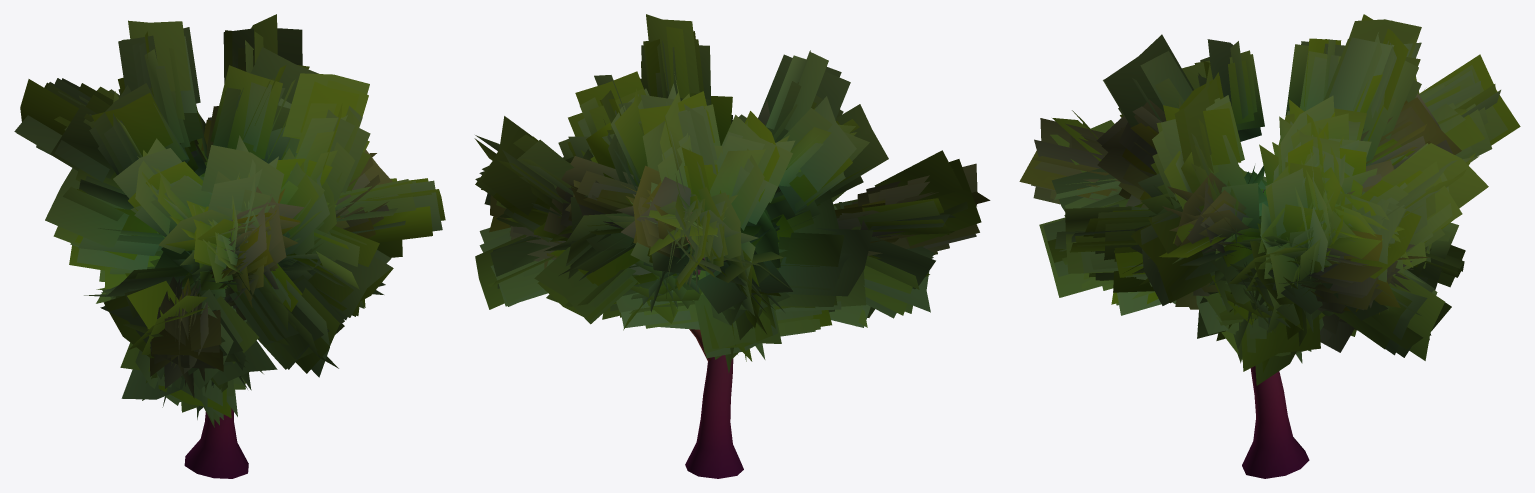
File: veg_oak_a.glb
The picture shows the model from 3 angles, left to right: view 1: azimuth 30°, elevation 25°; view 2: azimuth 150°, elevation 25°; view 3: azimuth 270°, elevation 25°; orthographic projection. The views are drawn at different scales.
Visible parts, largest first — view 1: veg_oak_a_LOD0; view 2: veg_oak_a_LOD0; view 3: veg_oak_a_LOD0.
Part boxes in pixels (x1=…): veg_oak_a_LOD0: x1=14, y1=14, x2=445, y2=478; veg_oak_a_LOD0: x1=474, y1=14, x2=990, y2=478; veg_oak_a_LOD0: x1=1019, y1=14, x2=1520, y2=478.
Size of what is drawn, in the model's own units: 2.97 by 3.31 by 3.37.
